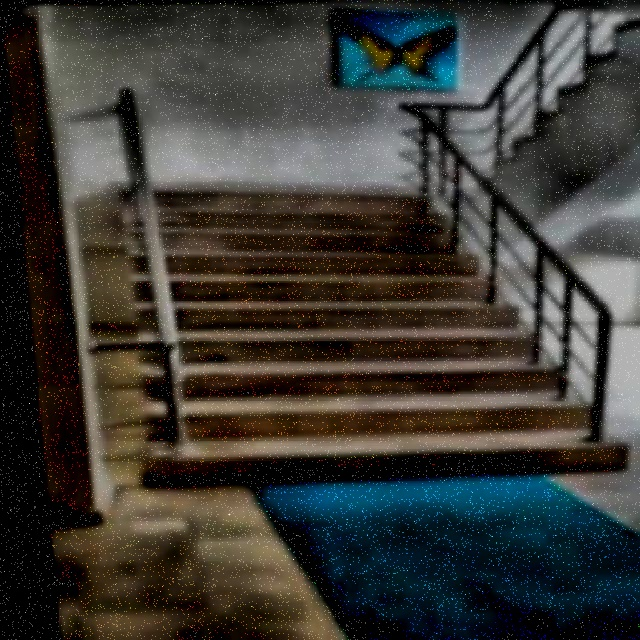stair: (110, 186, 607, 475)
